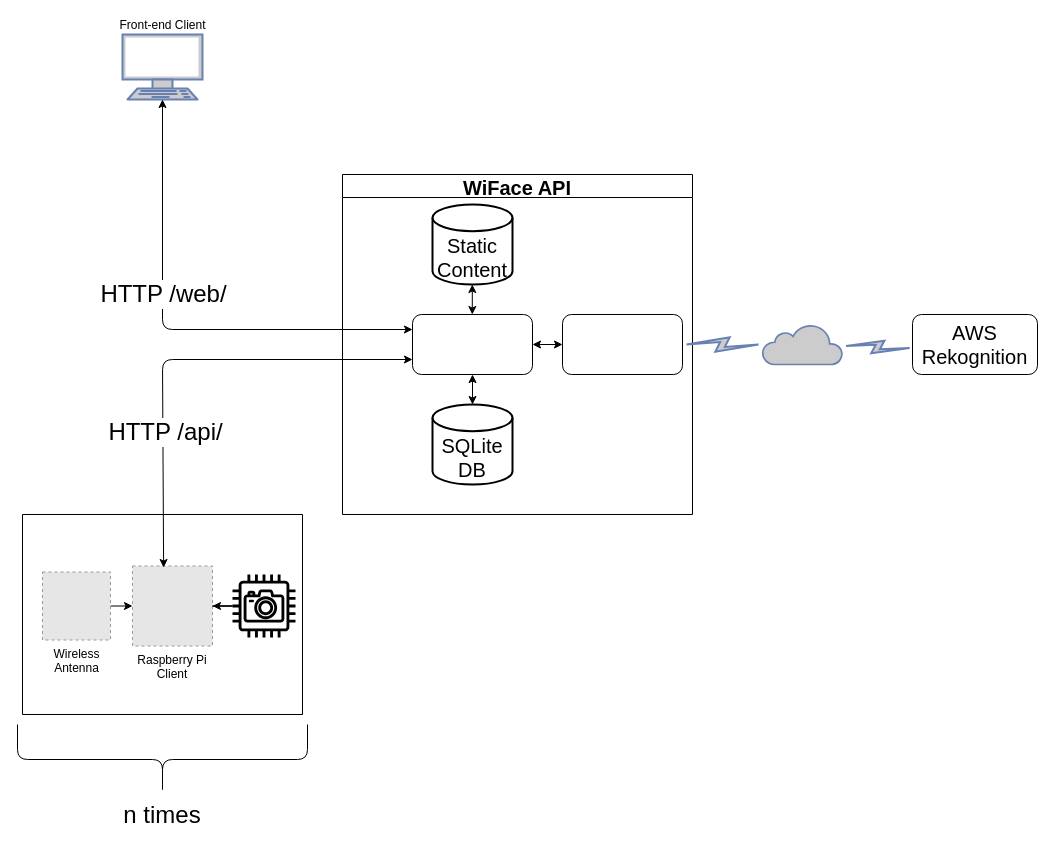
The diagram is 1055 pixels wide and 847 high, and some of its shapes have lost their labels. Grey dashed boxes stand in for pictures. The shapes that lost their labels are listed below. From the top down, each one's box as (x1, y1, x2, y2) in pixels, then its label:
(412, 314, 532, 374): Flask App
(562, 314, 682, 374): Boto client
(22, 514, 302, 714): Sensor
(232, 574, 296, 638): Module PiCamera
